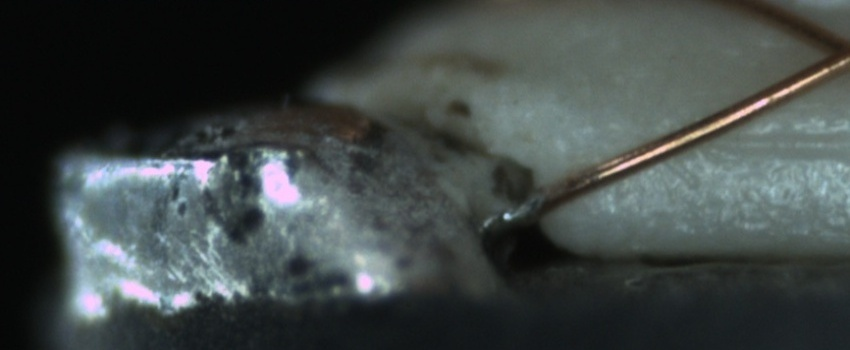CL: (799, 13, 850, 83)
DL: (697, 108, 845, 175)
TS: (485, 187, 546, 232)
